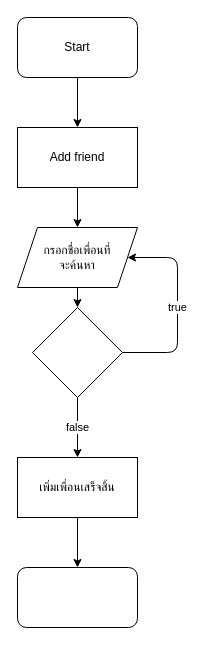
Image size: 204x645. Some labels were removed from this diagram. The shapes that lost their labels are listed below. From the top down, each one's centre as x and y in pixels, then its label:
At pixel 77 352: "มีเพื่อนอยู่แล้ว".
At pixel 77 597: "End".
